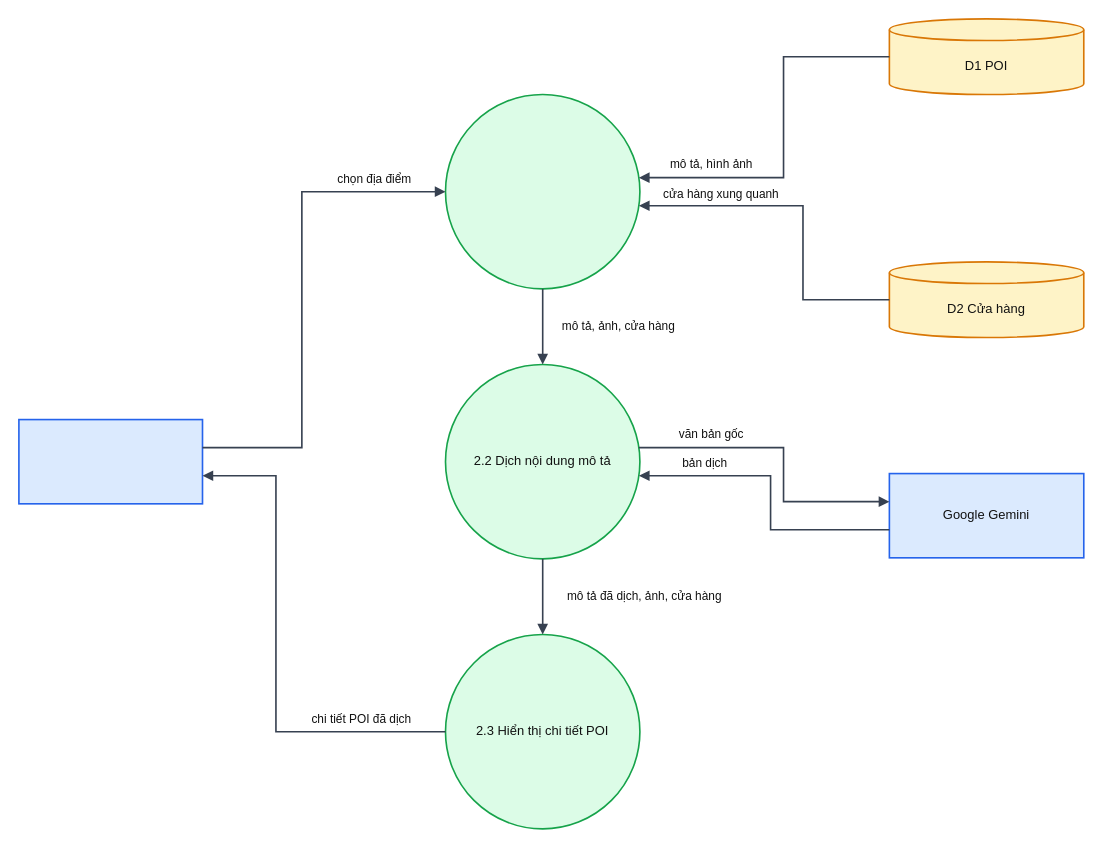
This 1104x849 diagram has some shape labels left out. Each missing label, with the centre of its shape:
"2.1 Lấy thông tin địa điểm" belongs at point (542, 191).
"Khách tham quan" belongs at point (110, 461).
